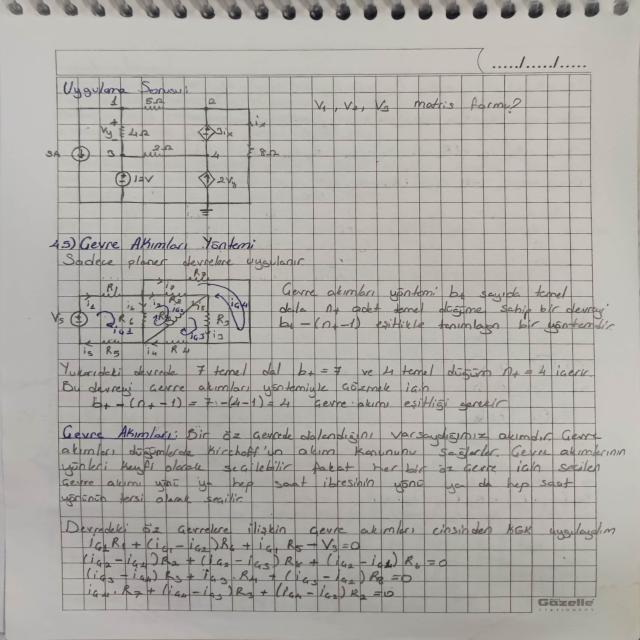image: (45, 96, 288, 221), (49, 268, 266, 358)
math: (77, 533, 456, 603), (81, 394, 301, 410), (312, 94, 395, 114)
text: (56, 422, 630, 505), (274, 280, 618, 336), (55, 360, 596, 394), (58, 516, 618, 541), (40, 232, 262, 252), (62, 252, 308, 270), (306, 392, 513, 411), (411, 95, 525, 117), (61, 79, 190, 98)
